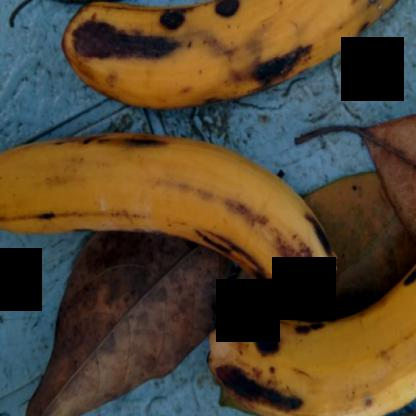overripe: (53, 1, 386, 124), (179, 278, 415, 415)
ripe: (0, 104, 352, 314)
